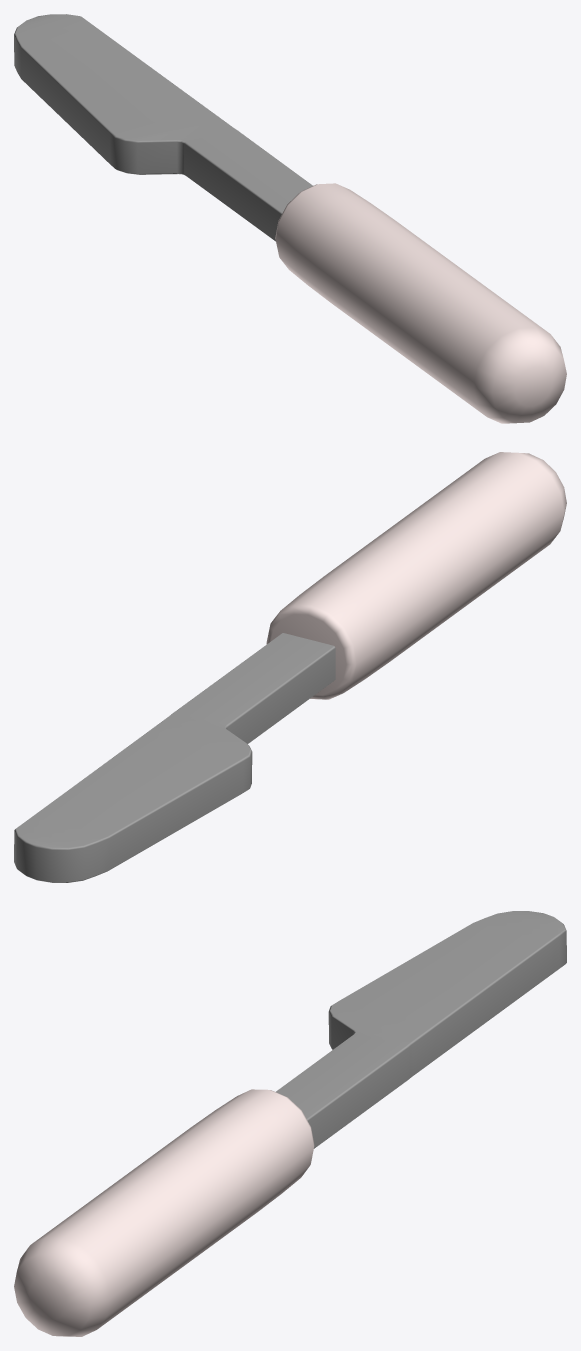
The model's file is Isl_10_Knife_1.fbx.
The picture shows the model from 3 angles, top to bottom: view 1: azimuth 30°, elevation 25°; view 2: azimuth 150°, elevation 25°; view 3: azimuth 330°, elevation 25°; orthographic projection. The views are drawn at different scales.
Visible parts, largest first — view 1: Isl_10_Knife_1; view 2: Isl_10_Knife_1; view 3: Isl_10_Knife_1.
Part boxes in pixels (left/top/right/bottom): Isl_10_Knife_1: left=14, top=14, right=566, bottom=423; Isl_10_Knife_1: left=14, top=452, right=566, bottom=882; Isl_10_Knife_1: left=14, top=911, right=566, bottom=1336.
Size of the model in its own units: 3.26 by 2.51 by 23.48.
